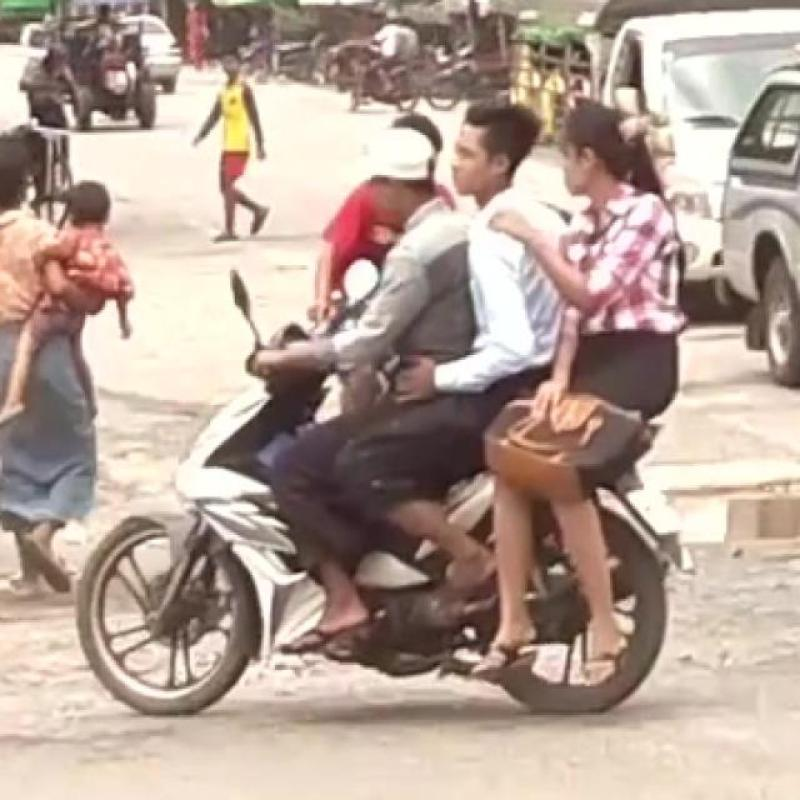nohelmet: (530, 76, 665, 230), (449, 71, 542, 217)
